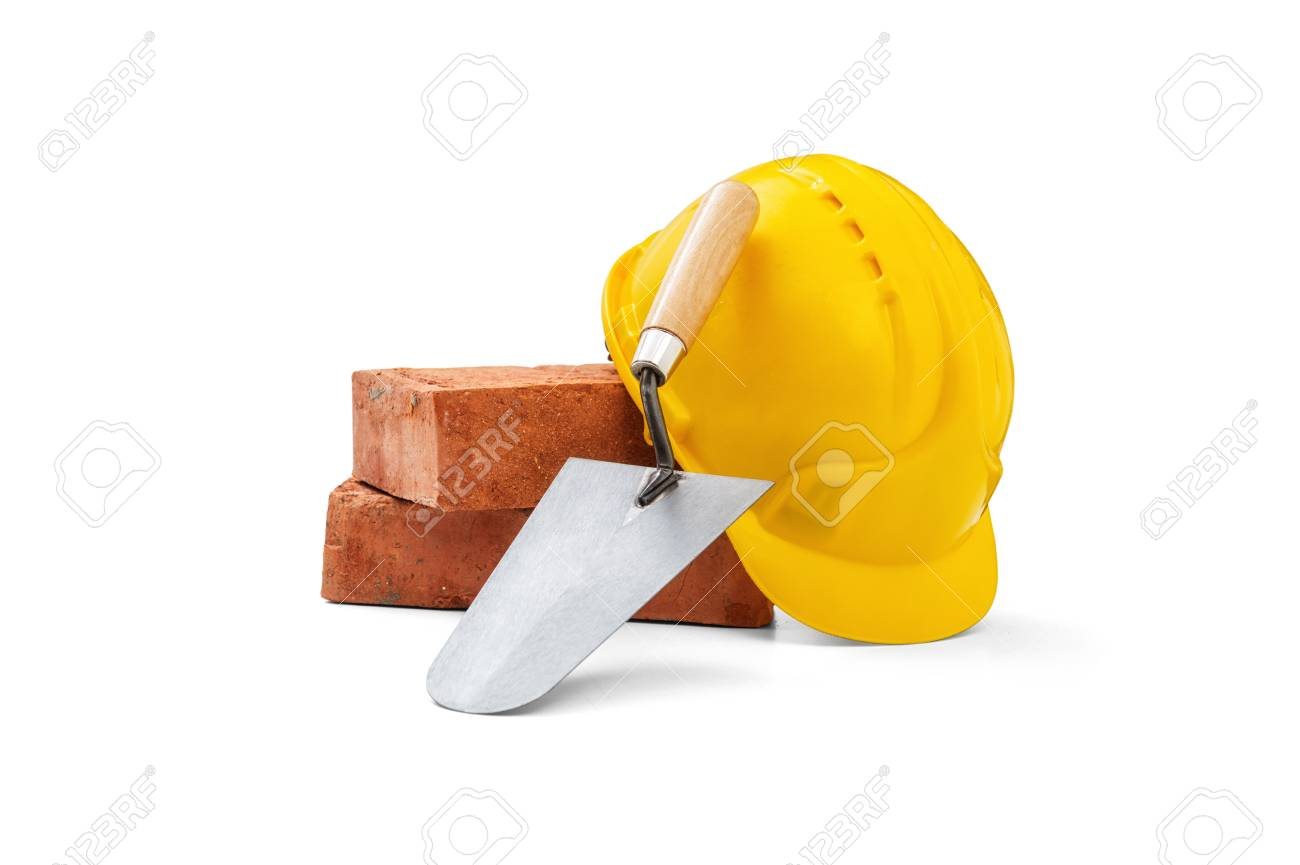casco: (599, 151, 1017, 644)
